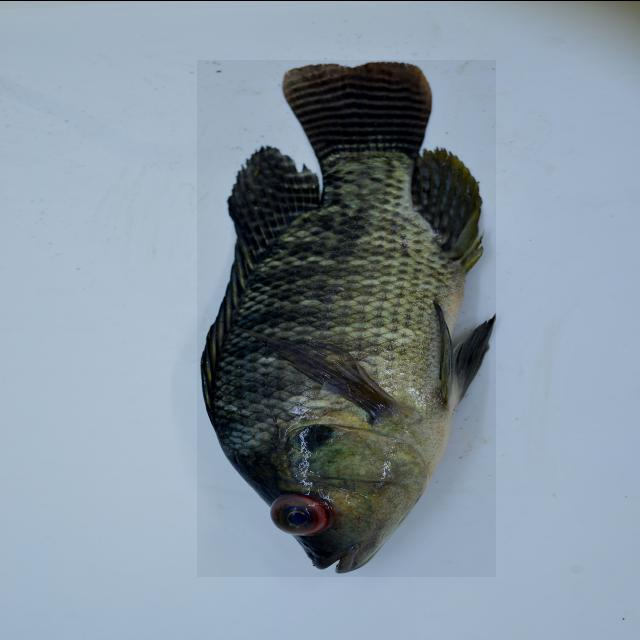streptococcus Disease: (197, 59, 496, 576)
